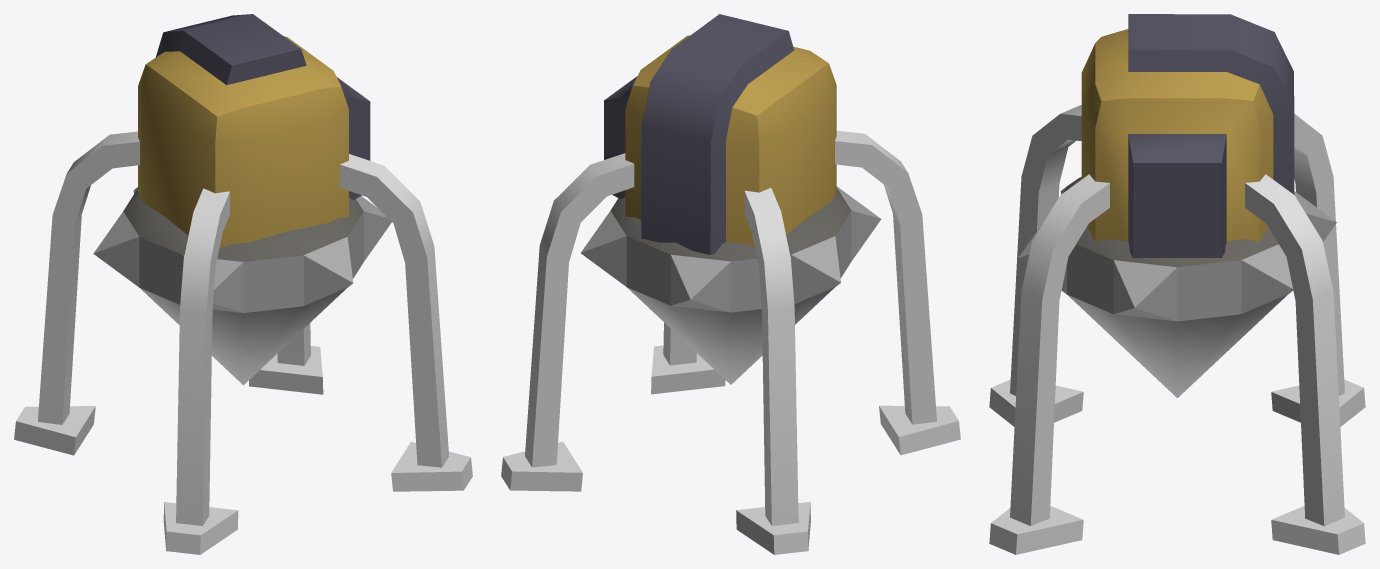
The model's file is FarmMetal.fbx.
3 renders of one model, left to right at view 1: azimuth 30°, elevation 25°; view 2: azimuth 150°, elevation 25°; view 3: azimuth 270°, elevation 25°, orthographic. The views are drawn at different scales.
Parts seen in each view (by area): view 1: FarmMetal, FarmMetal(Drill); view 2: FarmMetal, FarmMetal(Drill); view 3: FarmMetal, FarmMetal(Drill).
Boxes of the visible parts, <box> form: FarmMetal: <box>14,14,472,554</box>; FarmMetal(Drill): <box>93,187,391,385</box>; FarmMetal: <box>501,14,960,554</box>; FarmMetal(Drill): <box>580,186,881,384</box>; FarmMetal: <box>989,14,1365,554</box>; FarmMetal(Drill): <box>1018,177,1336,397</box>.
Size of the model in its own units: 186 by 242 by 186.
